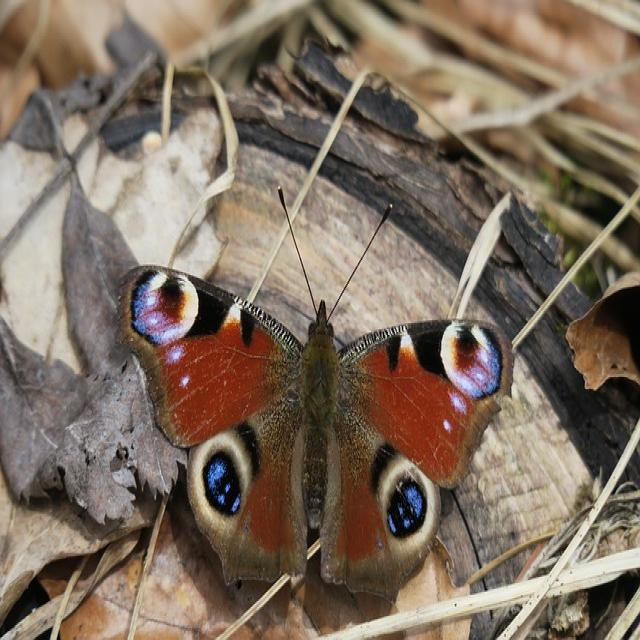butterfly: (129, 272, 504, 632)
